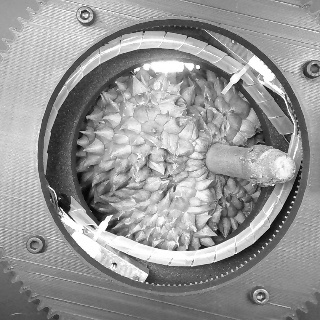base: (201, 140, 230, 177)
end: (270, 154, 296, 180)
